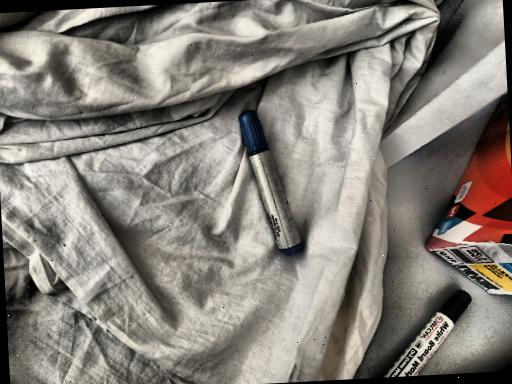marcador azul: (239, 110, 302, 256)
